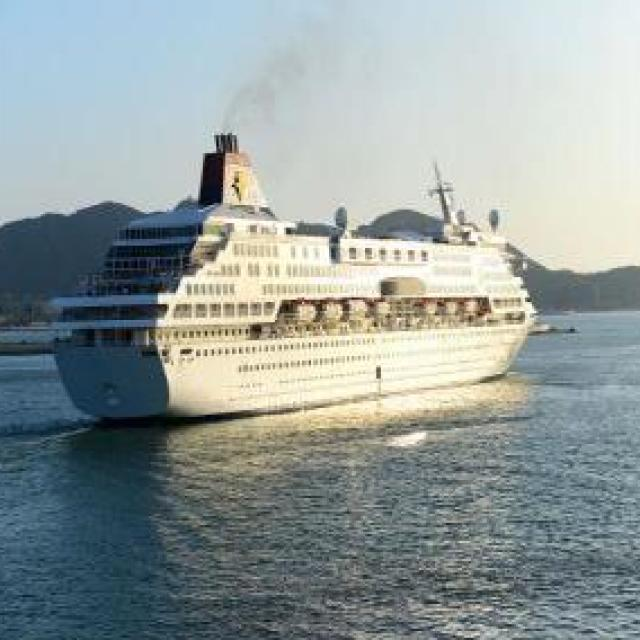passenger ship: (42, 128, 536, 412)
